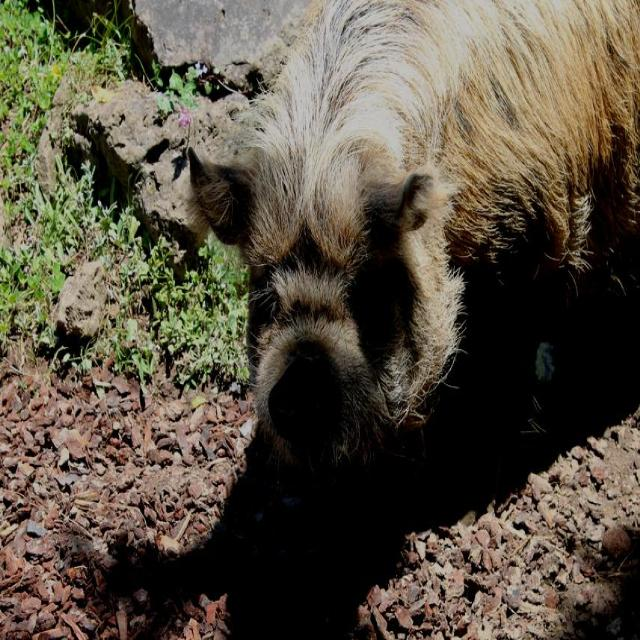pig: (189, 2, 640, 464)
